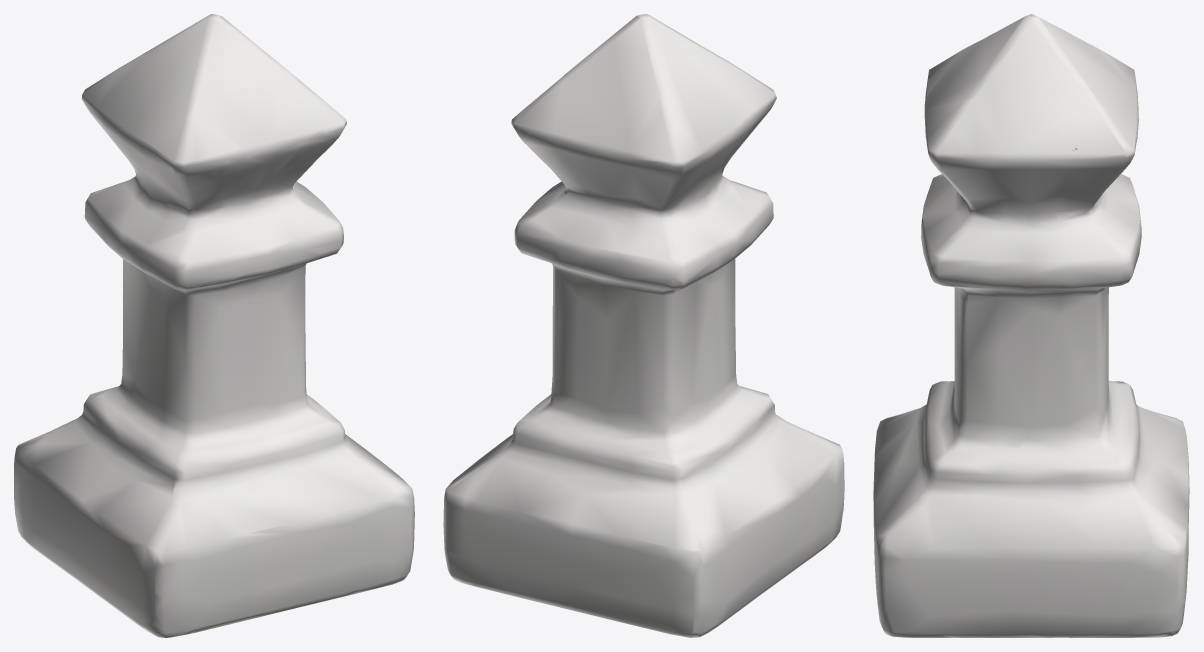
Rendered from pawn_med.glb.
3 renders of one model, left to right at view 1: azimuth 30°, elevation 25°; view 2: azimuth 150°, elevation 25°; view 3: azimuth 270°, elevation 25°, orthographic. The views are drawn at different scales.
Parts seen in each view (by area): view 1: world; view 2: world; view 3: world.
Boxes of the visible parts, <box> form: world: <box>14,14,414,637</box>; world: <box>443,14,844,637</box>; world: <box>873,14,1189,637</box>.
Bounding box in the file's own units: 0.5176 × 1 × 0.5126.
1 material, 1 textured.
